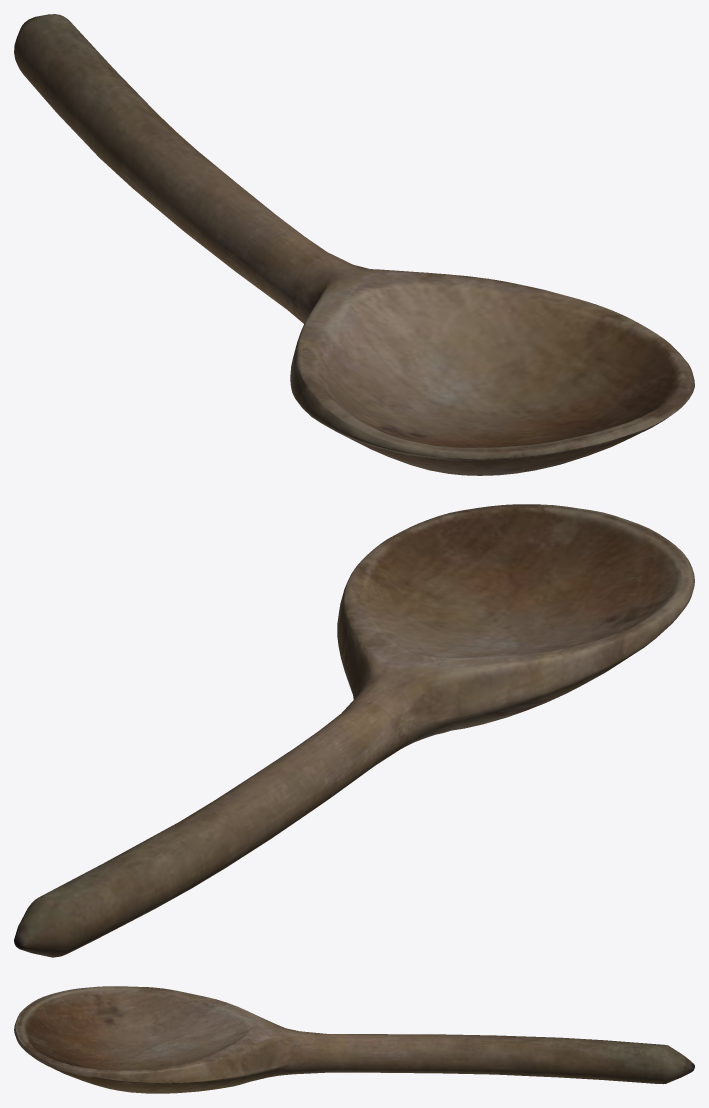
The model's file is wooden_spoon.glb.
3 views of the same model, one above another, from view 1: azimuth 30°, elevation 25°; view 2: azimuth 150°, elevation 25°; view 3: azimuth 270°, elevation 25° (orthographic). The views are drawn at different scales.
Visible parts, largest first — view 1: wooden_spoon; view 2: wooden_spoon; view 3: wooden_spoon.
Boxes of the visible parts, x1=… form: wooden_spoon: x1=14, y1=14, x2=694, y2=475; wooden_spoon: x1=14, y1=504, x2=694, y2=957; wooden_spoon: x1=14, y1=986, x2=694, y2=1093.
Bounding box in the file's own units: 0.0867 × 0.0251 × 0.2777.
1 material, 1 textured.
